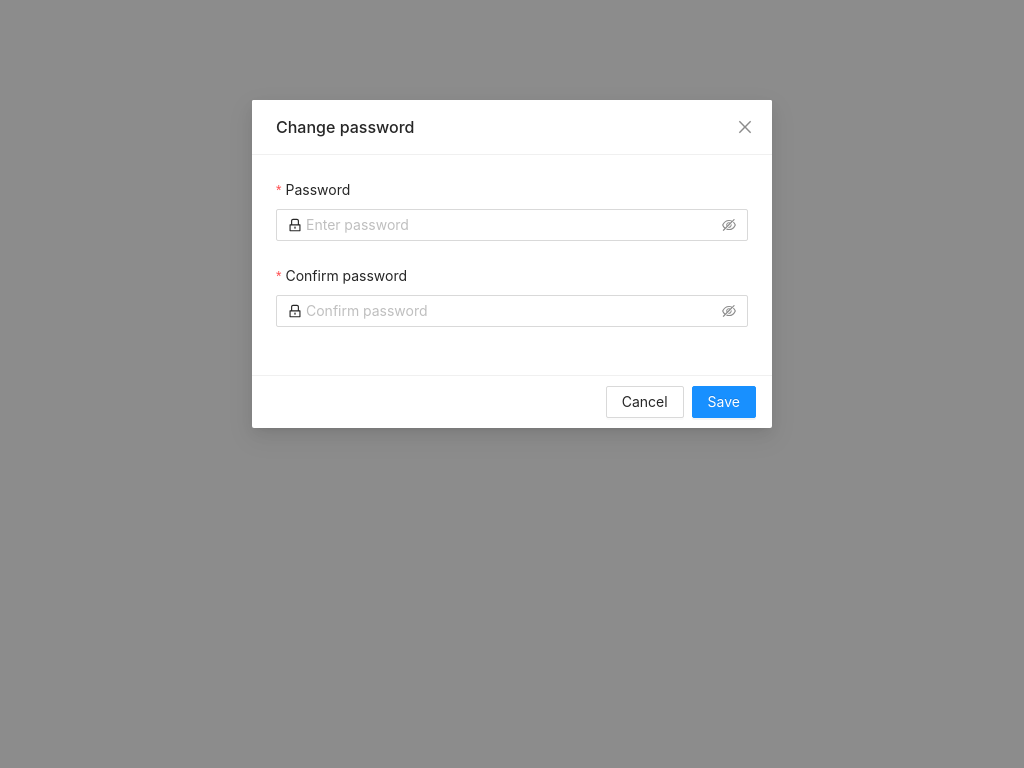
Test: <ChangePasswordForm /> render › Should render with match password error message
Type "password" into the password field with placeholder "Enter password" at (512, 225), box [306,214,718,236]
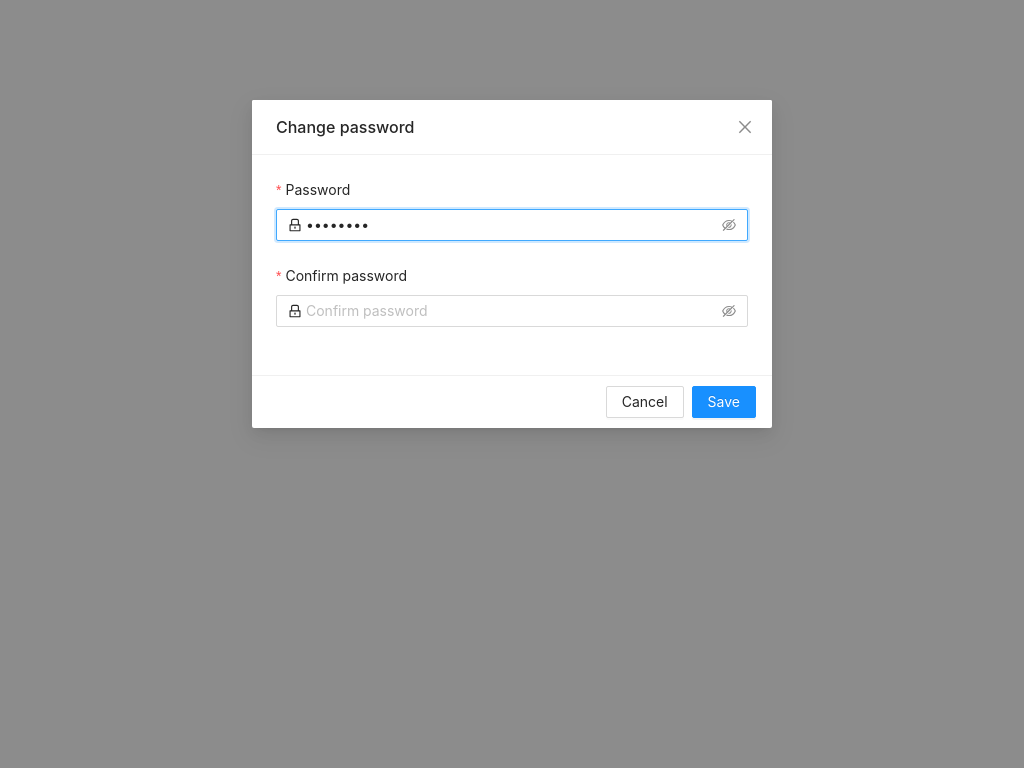
Type "PASSWORD" into the password field with placeholder "Confirm password" at (512, 311), box [306,300,718,322]
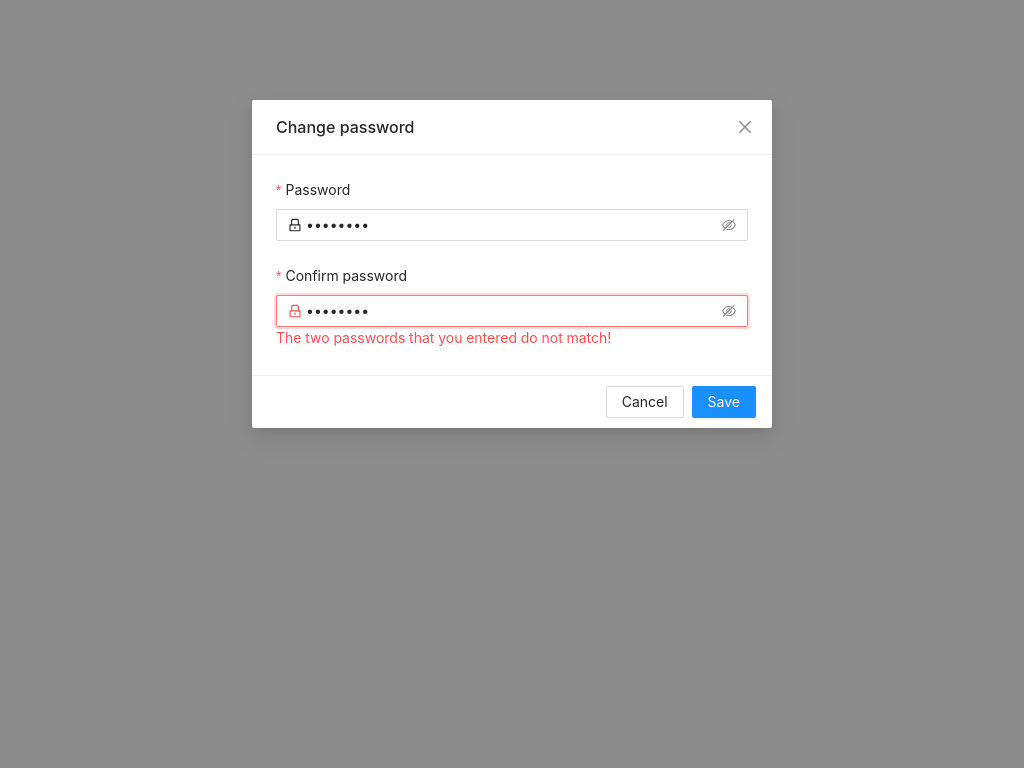
Expected: the text "The two passwords that you entered do not match!" is shown once, [276,329,611,346]
